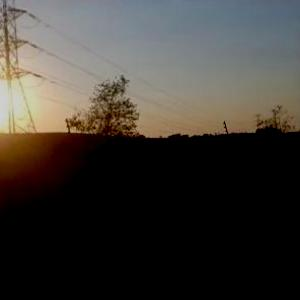follow: (116, 145, 184, 299)
